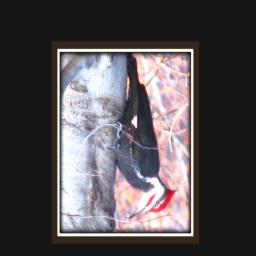Woodpecker: (107, 52, 177, 220)
